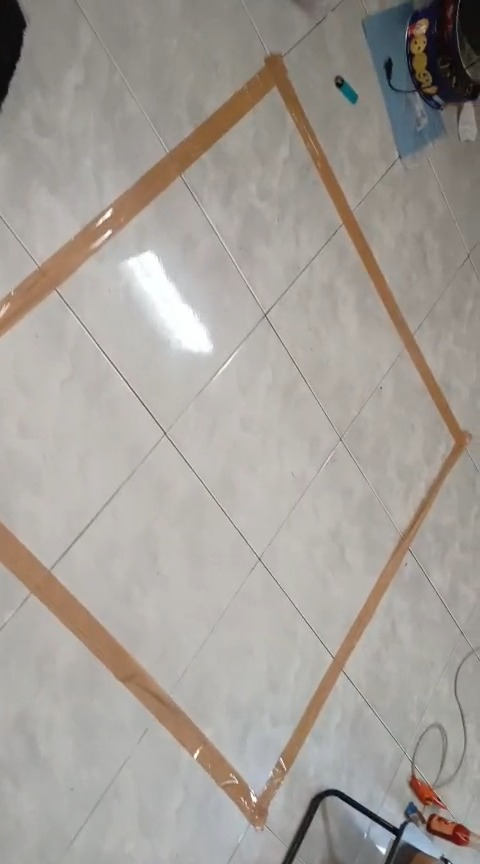floor marking: (0, 55, 470, 827)
